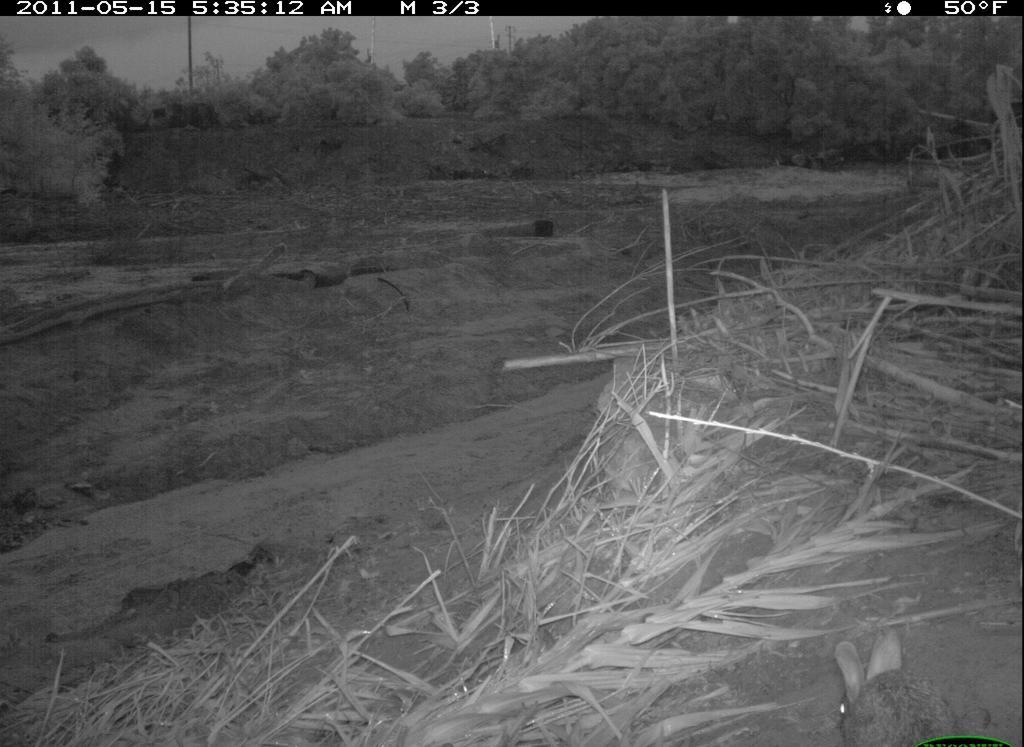rabbit: (831, 628, 964, 747)
